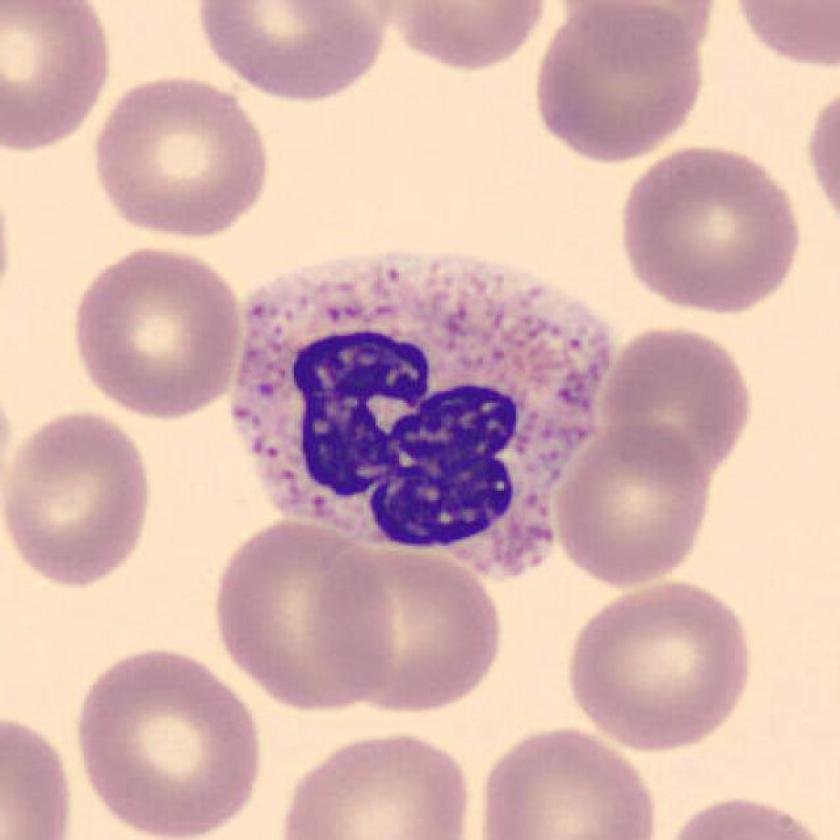neutrophil: (232, 251, 614, 582)
